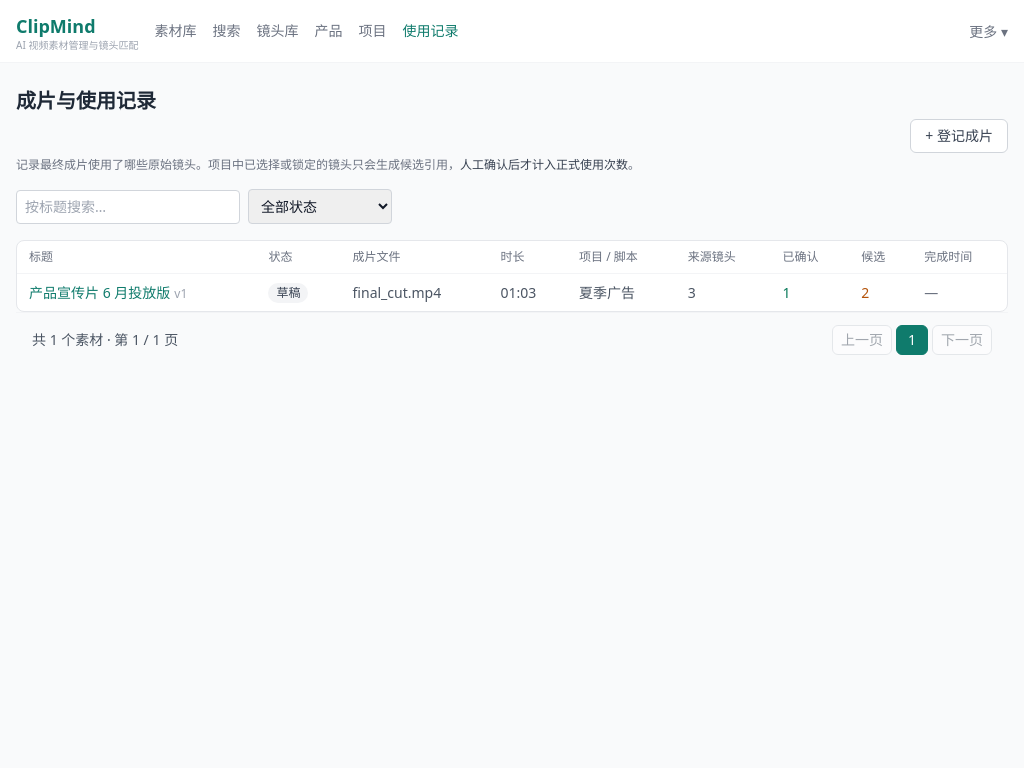
FinalVideosView › 创建 409 冲突时展示错误
Click the button with test id "toggle-create-final-video".
click(959, 136)  # box [910, 119, 1008, 153]
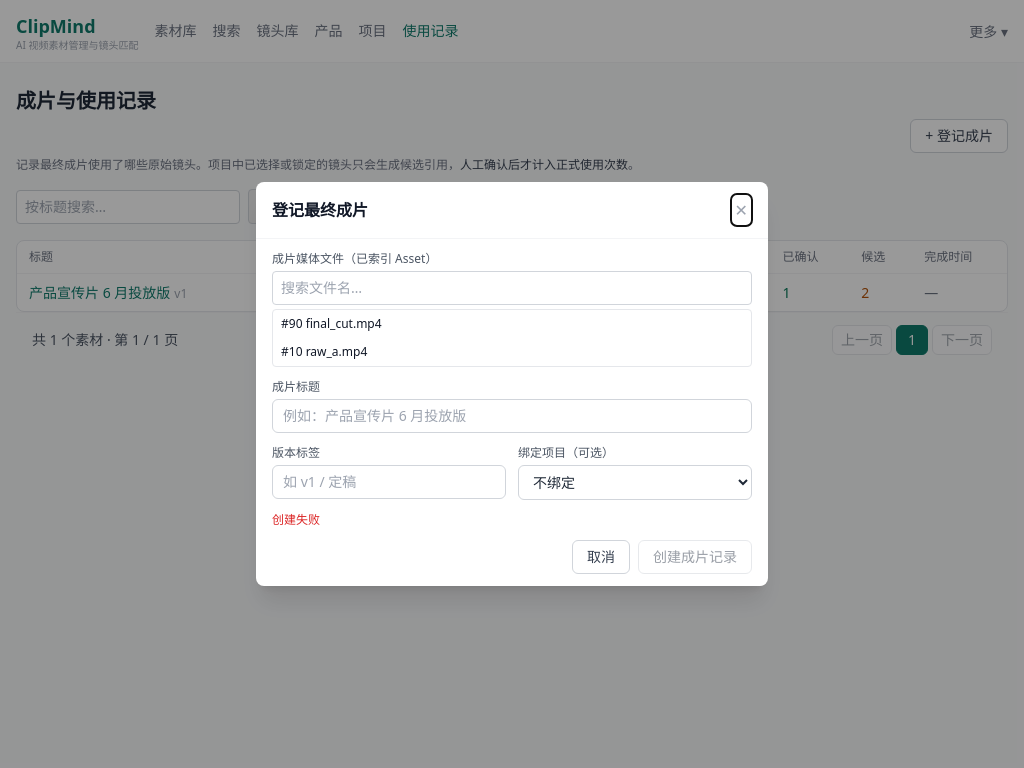
expect the text "创建失败" is shown: met, box [272, 511, 320, 528]
